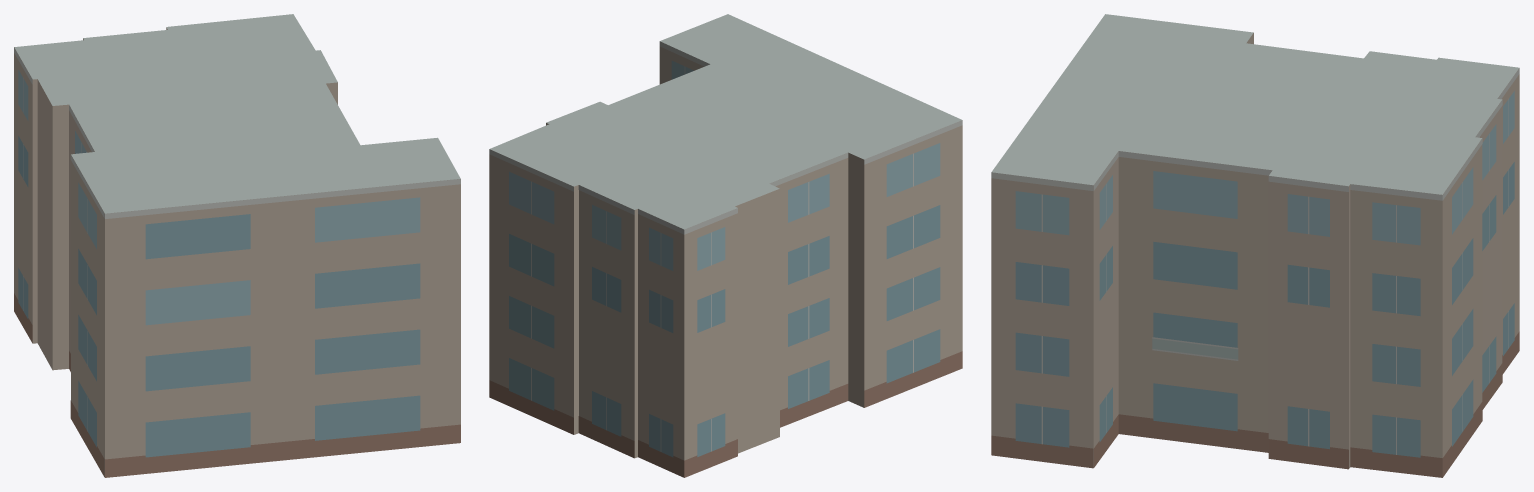
File: survey-upis-32517520.glb
3 views of the same model, side by side, from view 1: azimuth 30°, elevation 25°; view 2: azimuth 150°, elevation 25°; view 3: azimuth 270°, elevation 25° (orthographic). The views are drawn at different scales.
Parts seen in each view (by area): view 1: survey-upis-32517520.tmp; view 2: survey-upis-32517520.tmp; view 3: survey-upis-32517520.tmp.
Part boxes in pixels (x1,y1,x2,y2): survey-upis-32517520.tmp: (14, 14, 460, 477); survey-upis-32517520.tmp: (489, 14, 962, 477); survey-upis-32517520.tmp: (991, 14, 1519, 477).
Bounding box in the file's own units: 16.04 × 11.7 × 19.8.
